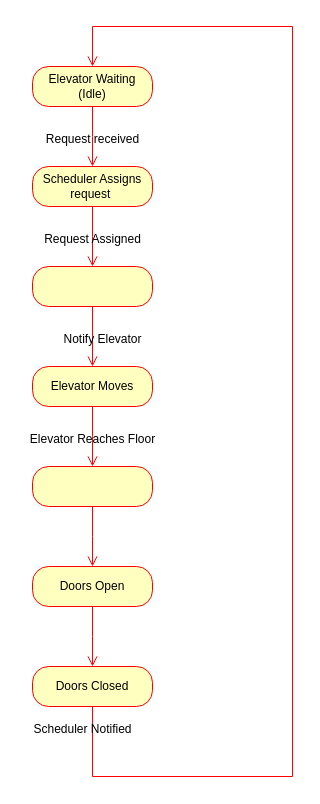
Image size: 320x804. Some labels were removed from this diagram. Here are the shapes that lost their labels. From the top down, the centre of each, then its label:
At point (92, 286): "Processing".
At point (92, 486): "Elevator Arrived".
